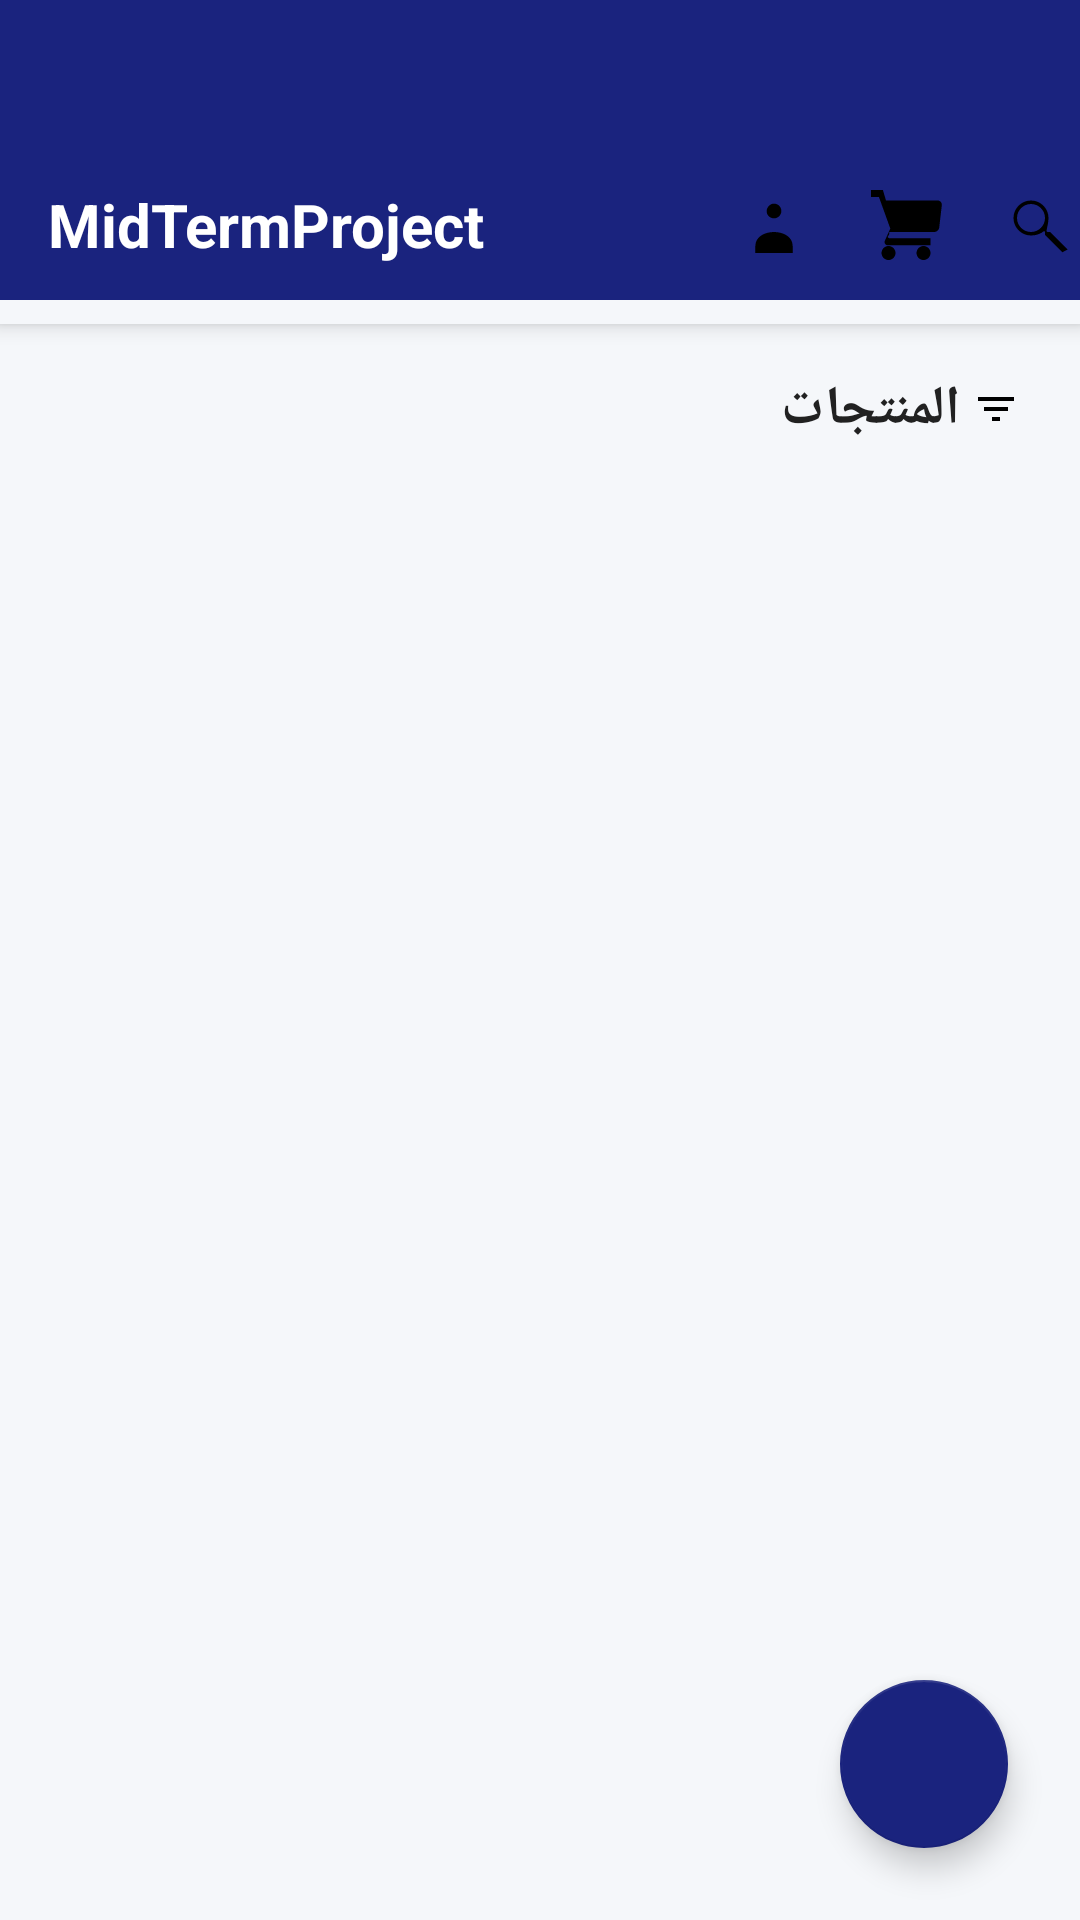

Point at icon controls on the screen. Image size 1080*1920, points as (x=x, y=y).
بحث: (x=1040, y=226)
تصفية: (x=996, y=409)
سلة التسوق: (x=906, y=225)
ملف المستخدم: (x=774, y=228)
